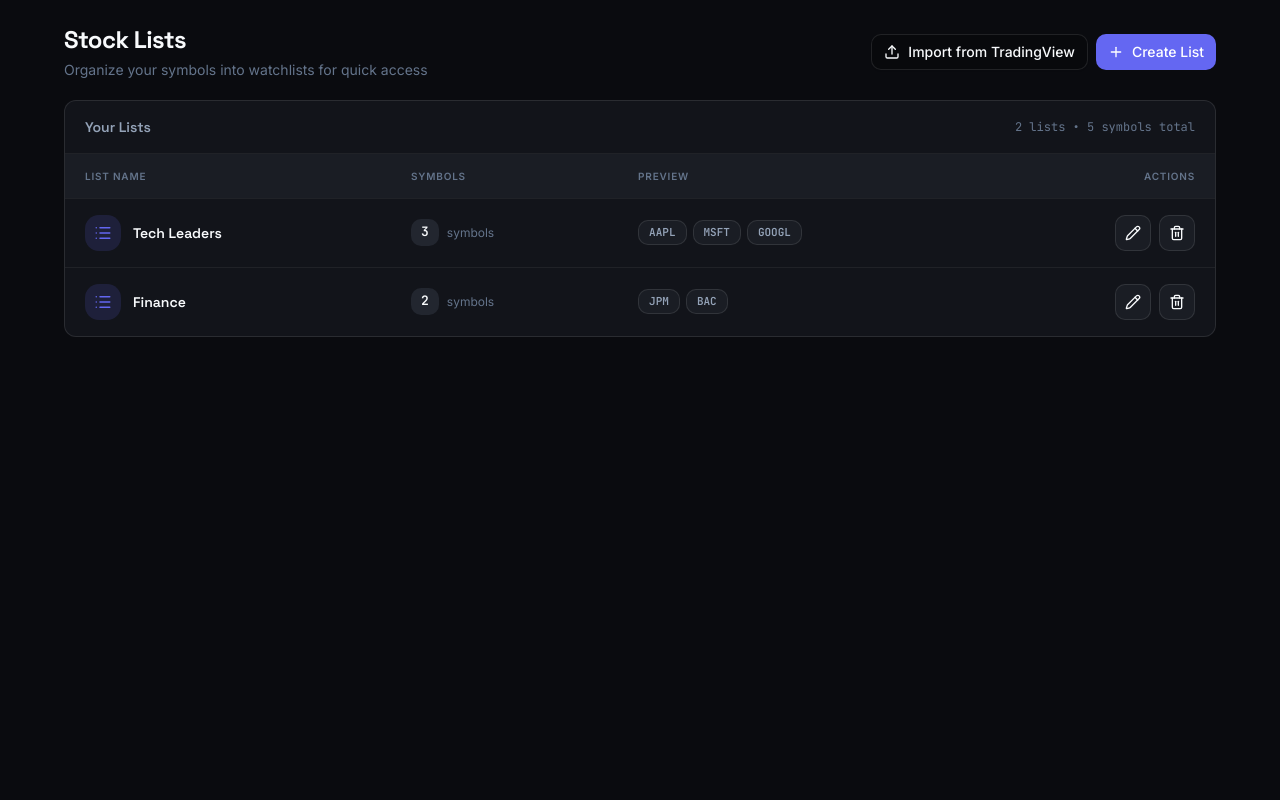
Scenario: StockLists Page › Create Dialog › opens create dialog when Create List button is clicked
Click the button "Create List".
click(1156, 52)  # box [1096, 34, 1216, 70]
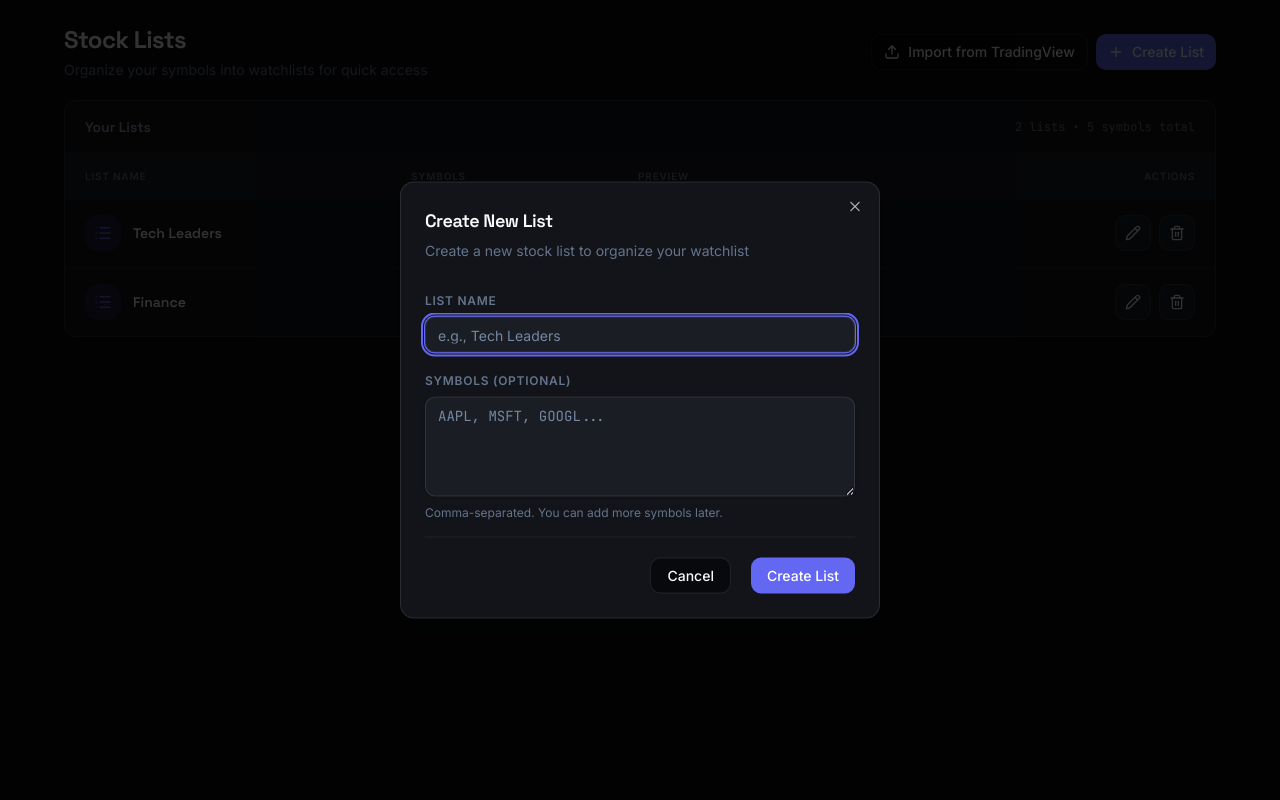
Check: the heading "Create New List" is shown, box [425, 208, 553, 232]
Check: the text "Create a new stock list to organize your watchlist" is shown, box [425, 242, 749, 258]
